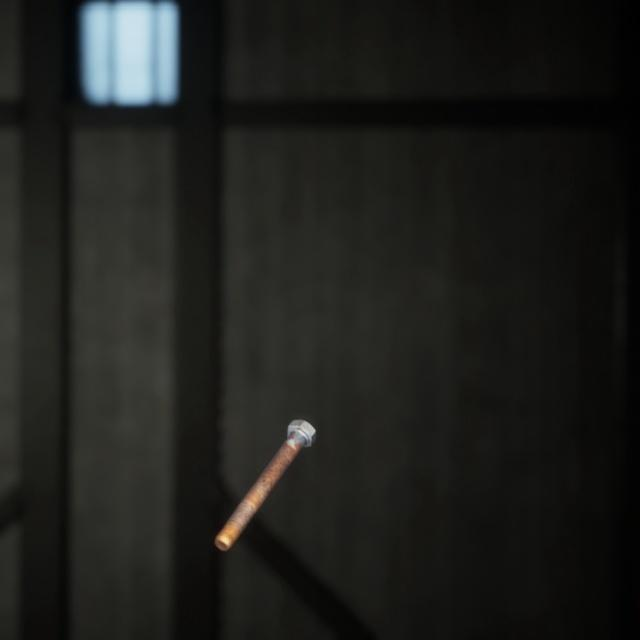bolt: (210, 394, 320, 532)
